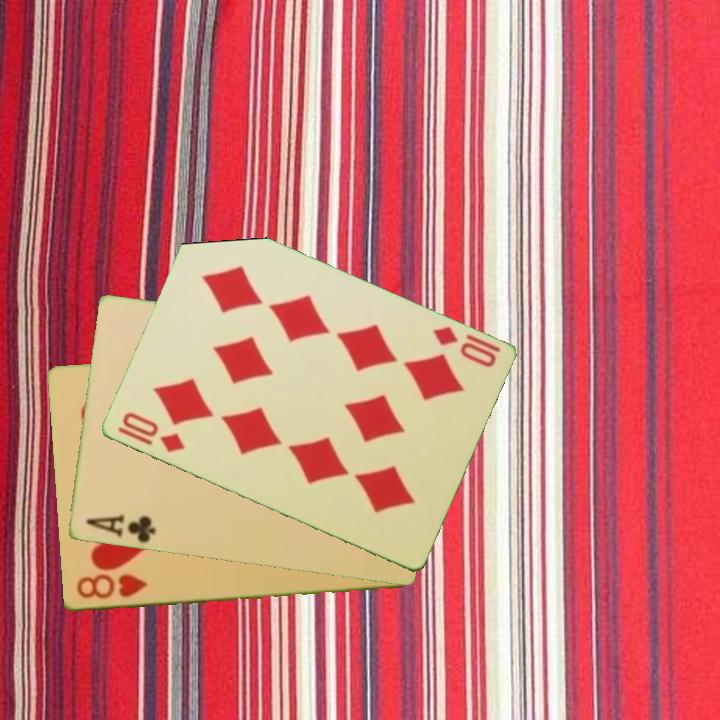10d: (428, 322, 503, 371), (118, 408, 187, 456)
8h: (73, 571, 150, 602)
Ac: (82, 511, 158, 546)
